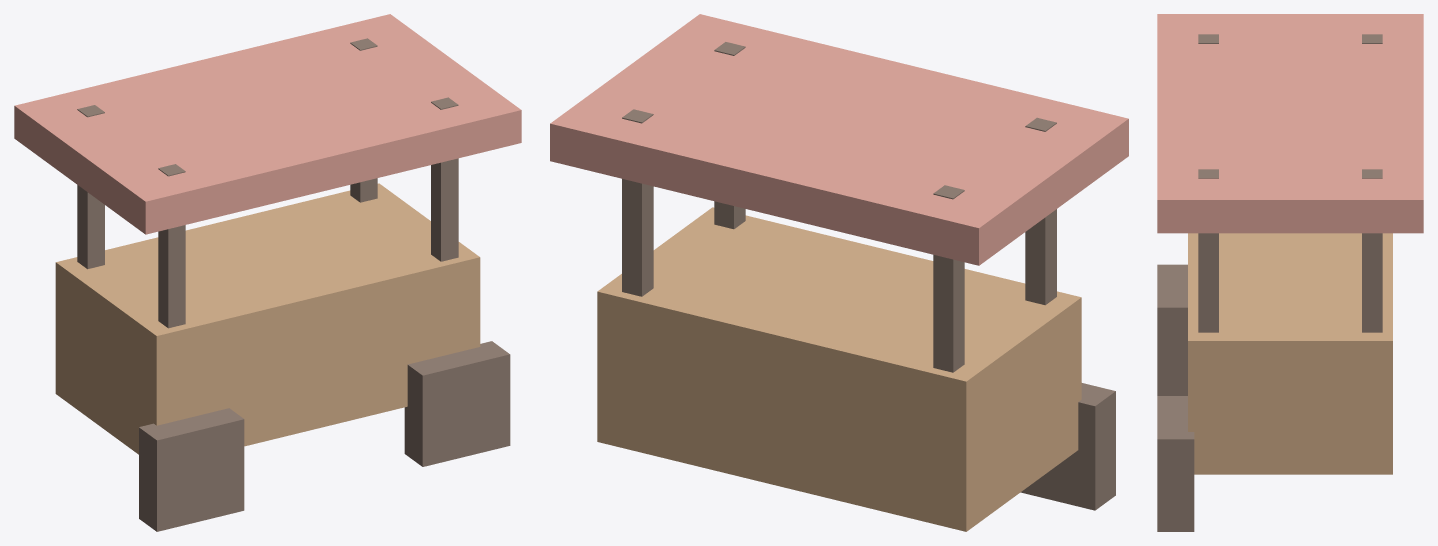
The model's file is market-cart.glb.
The picture shows the model from 3 angles, left to right: view 1: azimuth 30°, elevation 25°; view 2: azimuth 150°, elevation 25°; view 3: azimuth 270°, elevation 25°; orthographic projection. The views are drawn at different scales.
Parts seen in each view (by area): view 1: cart-body, canopy, wheel-left, wheel-right, post-4, post-3, post-1, post-2; view 2: cart-body, canopy, wheel-left, post-1, post-2, post-3, post-4; view 3: canopy, cart-body, wheel-right, wheel-left, post-2, post-4.
Boxes of the visible parts, x1,y1,x2,y2 form: cart-body: (55, 183, 480, 454); canopy: (14, 14, 521, 234); wheel-left: (139, 408, 244, 531); wheel-right: (404, 341, 510, 466); post-4: (431, 97, 458, 261); post-3: (158, 164, 185, 328); post-1: (77, 105, 104, 269); post-2: (350, 38, 377, 202); cart-body: (597, 207, 1081, 531); canopy: (550, 14, 1128, 265); wheel-left: (1020, 383, 1115, 510); post-1: (933, 185, 964, 372); post-2: (622, 109, 653, 296); post-3: (1025, 117, 1056, 305); post-4: (714, 42, 745, 229); canopy: (1157, 14, 1423, 233); cart-body: (1188, 233, 1392, 474); wheel-right: (1157, 396, 1194, 531); wheel-left: (1157, 264, 1187, 395); post-2: (1362, 169, 1382, 332); post-4: (1198, 169, 1218, 332).
Size of the model in its own units: 2.15 by 1.83 by 1.3.
